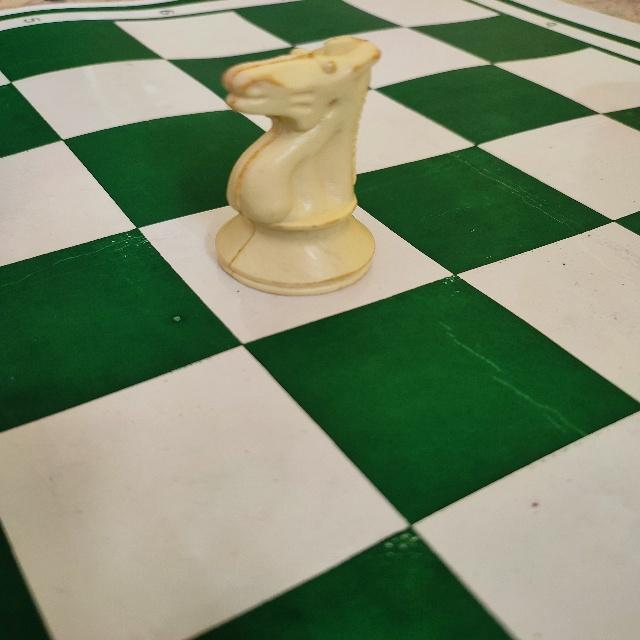Knight: (211, 32, 378, 299)
